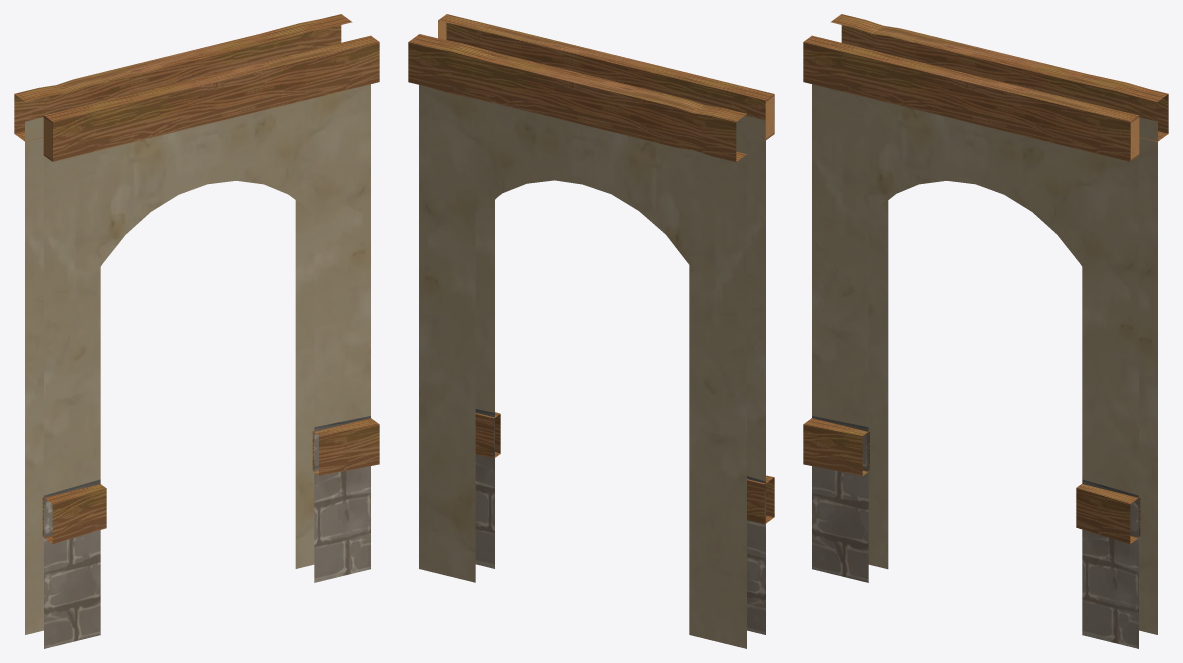
Rendered from Wall_Plaster_Door_Round.glb.
3 views of the same model, side by side, from view 1: azimuth 30°, elevation 25°; view 2: azimuth 150°, elevation 25°; view 3: azimuth 330°, elevation 25° (orthographic).
Parts seen in each view (by area): view 1: Wall_Plaster_Door_Round; view 2: Wall_Plaster_Door_Round; view 3: Wall_Plaster_Door_Round.
Part boxes in pixels (x1,y1,x2,y2): Wall_Plaster_Door_Round: [14, 14, 379, 648]; Wall_Plaster_Door_Round: [408, 14, 774, 648]; Wall_Plaster_Door_Round: [803, 14, 1168, 648].
Size of the model in its own units: 2 by 3.12 by 0.4065.
3 materials, 3 textured.
